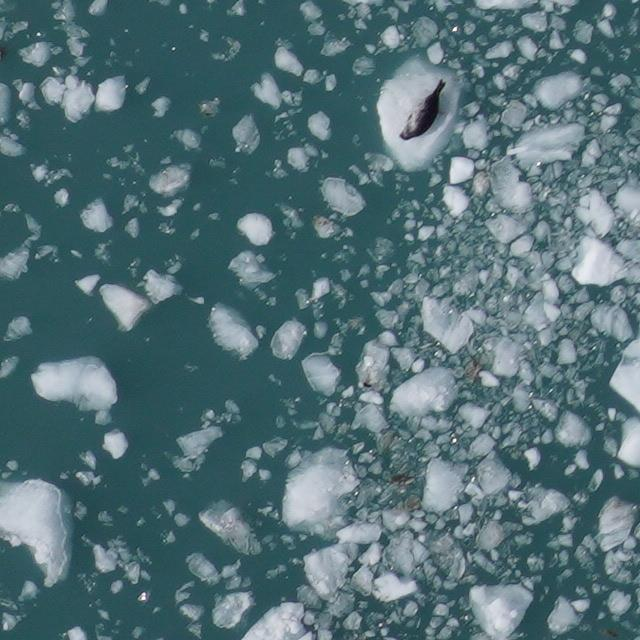seal: (393, 72, 456, 150)
